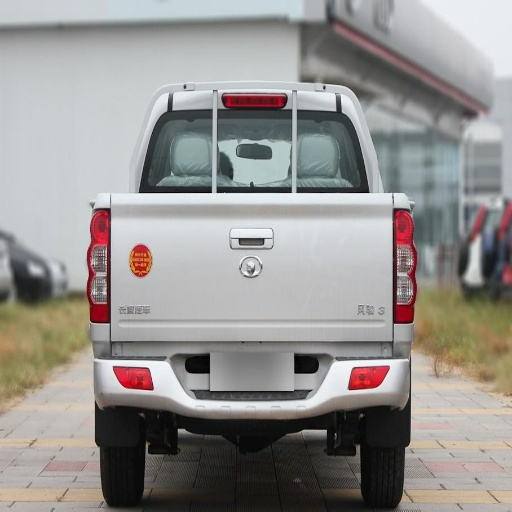back_bumper: (90, 325, 409, 420)
trunk: (94, 195, 393, 357)
